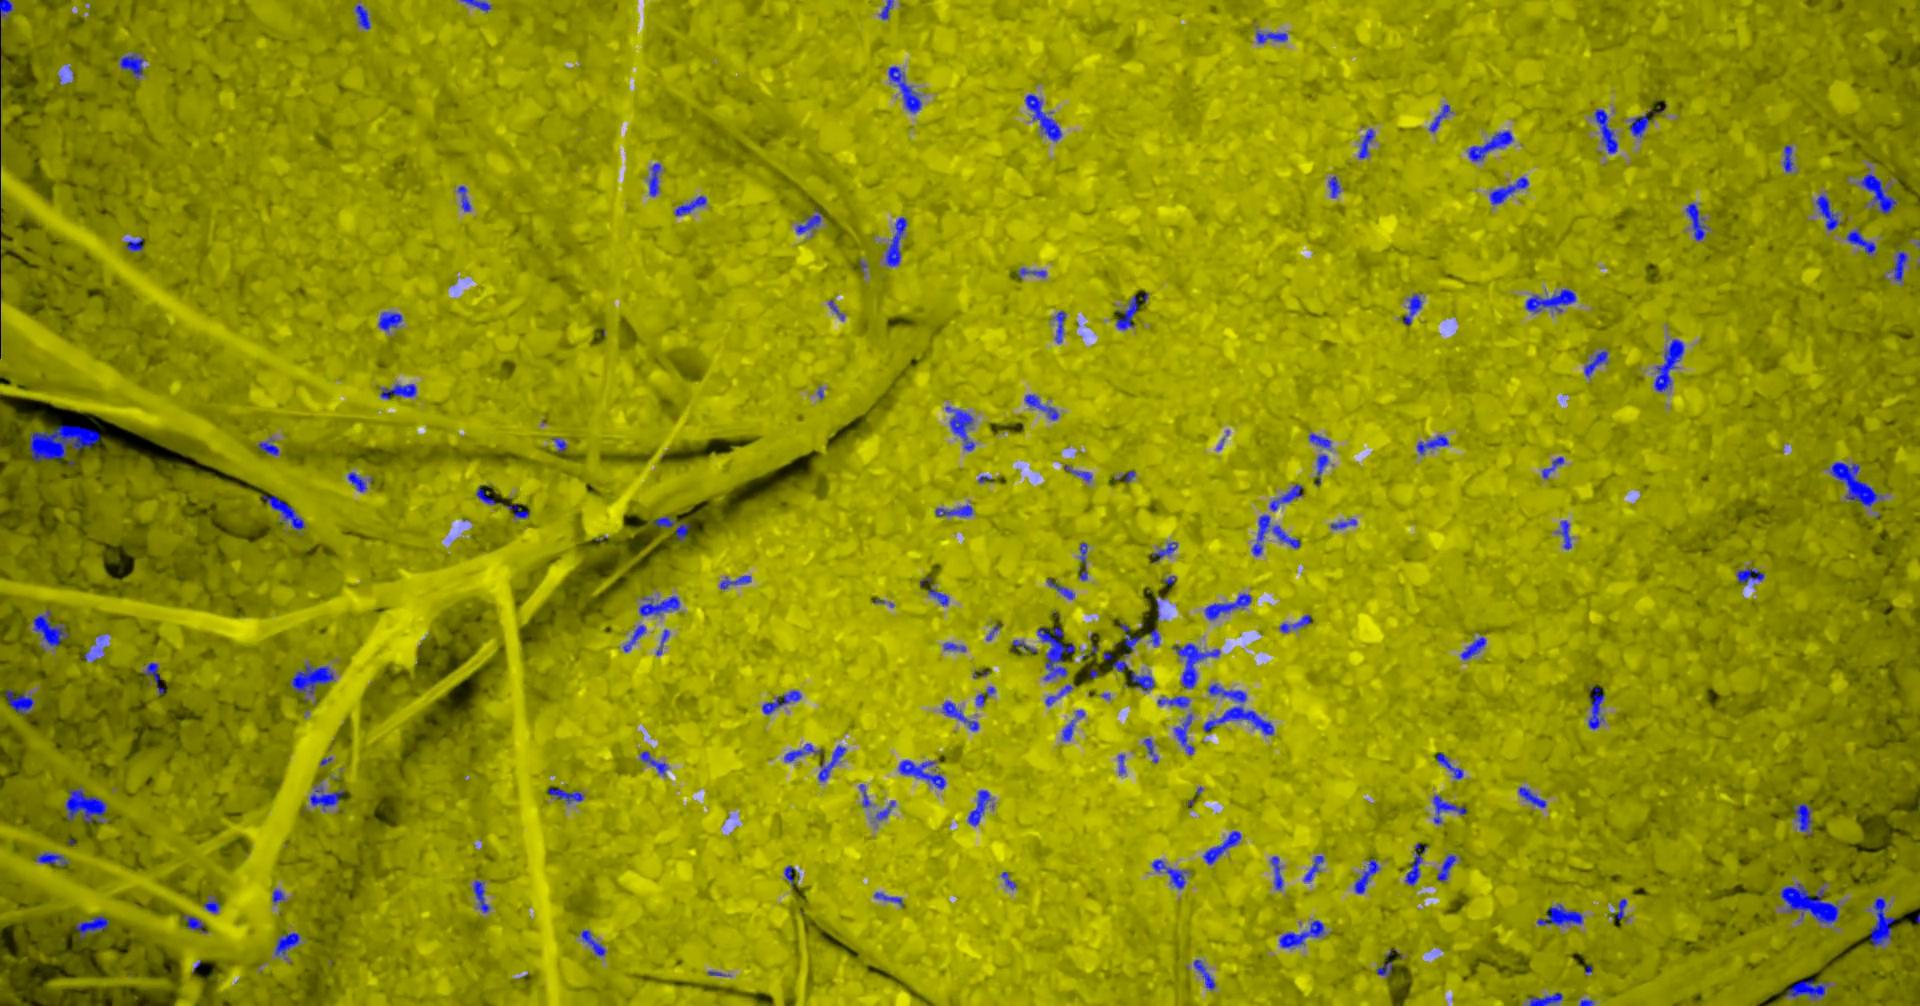ant: (1204, 683, 1275, 734), (1831, 462, 1883, 506), (1175, 643, 1222, 688), (1039, 626, 1076, 680), (1253, 514, 1302, 555), (1026, 93, 1063, 140), (1655, 338, 1685, 391), (890, 66, 923, 112), (1862, 173, 1898, 213), (263, 494, 306, 528), (1469, 130, 1514, 161), (67, 788, 107, 822), (900, 760, 947, 788), (34, 610, 70, 647), (291, 664, 335, 694), (1205, 829, 1242, 864), (947, 406, 977, 450), (1870, 897, 1896, 946), (1280, 920, 1324, 948), (1528, 288, 1577, 312), (1206, 593, 1253, 619), (943, 700, 980, 730), (1491, 177, 1530, 205), (1153, 859, 1189, 889), (1595, 109, 1619, 152), (654, 514, 692, 541), (888, 216, 908, 265), (819, 746, 847, 781), (1406, 842, 1429, 885), (1538, 903, 1583, 925), (1434, 795, 1468, 823), (763, 690, 803, 714), (1355, 857, 1382, 893), (1785, 977, 1829, 998), (1817, 194, 1843, 230), (1271, 483, 1303, 511), (1026, 394, 1060, 419), (1175, 713, 1195, 754), (311, 785, 345, 809), (76, 915, 110, 939), (1688, 202, 1709, 240), (1117, 293, 1140, 329), (969, 790, 992, 826), (1848, 227, 1877, 254), (640, 596, 681, 615), (1589, 686, 1606, 729), (6, 688, 36, 714), (143, 662, 166, 694), (1437, 752, 1464, 779), (785, 743, 824, 761), (582, 929, 607, 955), (276, 932, 301, 959), (797, 208, 825, 232), (641, 751, 669, 775), (1195, 959, 1217, 989), (623, 625, 648, 652), (1121, 622, 1144, 650), (676, 196, 709, 215), (1796, 801, 1815, 835), (1585, 351, 1609, 376), (1430, 104, 1453, 131), (1418, 434, 1450, 453), (1281, 614, 1313, 633), (1048, 578, 1076, 600), (1404, 293, 1423, 324), (1462, 636, 1487, 659), (1048, 683, 1074, 705), (1150, 541, 1178, 561), (1520, 786, 1548, 807), (121, 53, 143, 77), (1437, 854, 1457, 882), (475, 880, 491, 912), (382, 384, 417, 399), (549, 788, 585, 801), (1103, 652, 1130, 671), (1305, 855, 1324, 882), (1065, 464, 1093, 481), (1131, 671, 1156, 691), (1630, 112, 1650, 137), (378, 311, 404, 330), (1360, 128, 1377, 158), (1530, 991, 1564, 1005), (1543, 456, 1564, 478), (1738, 568, 1766, 584), (36, 852, 69, 866), (1558, 520, 1573, 549), (1316, 453, 1330, 485), (936, 504, 974, 516), (185, 915, 210, 932), (1895, 250, 1909, 281), (721, 575, 752, 589), (875, 892, 905, 906), (356, 4, 372, 29), (977, 686, 997, 706), (1257, 30, 1289, 43), (1079, 542, 1090, 580), (877, 800, 897, 821), (650, 163, 662, 196), (1272, 856, 1284, 889), (657, 629, 670, 655), (1018, 267, 1048, 279), (349, 473, 368, 492), (477, 485, 497, 504), (1159, 696, 1191, 708), (930, 587, 950, 605), (458, 185, 472, 211), (508, 503, 531, 518), (1614, 898, 1629, 921), (1145, 738, 1159, 762), (462, 0, 491, 11), (1057, 310, 1067, 342), (1310, 433, 1332, 447), (204, 895, 221, 913), (1015, 639, 1037, 652), (259, 441, 279, 455), (861, 782, 872, 807), (1330, 175, 1342, 197), (1063, 719, 1076, 741), (1784, 145, 1794, 171), (1003, 871, 1018, 889), (1332, 518, 1357, 528), (127, 238, 145, 251), (1377, 962, 1394, 976), (1115, 470, 1137, 481), (785, 865, 796, 887), (881, 0, 894, 19), (945, 641, 968, 652), (552, 437, 568, 451), (1, 0, 14, 17), (1150, 627, 1161, 645), (274, 889, 286, 903)
